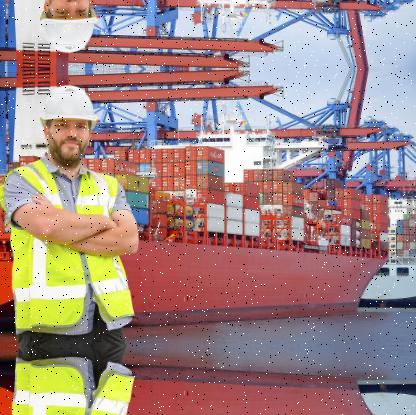helmet: (31, 79, 105, 168), (30, 0, 105, 58)
